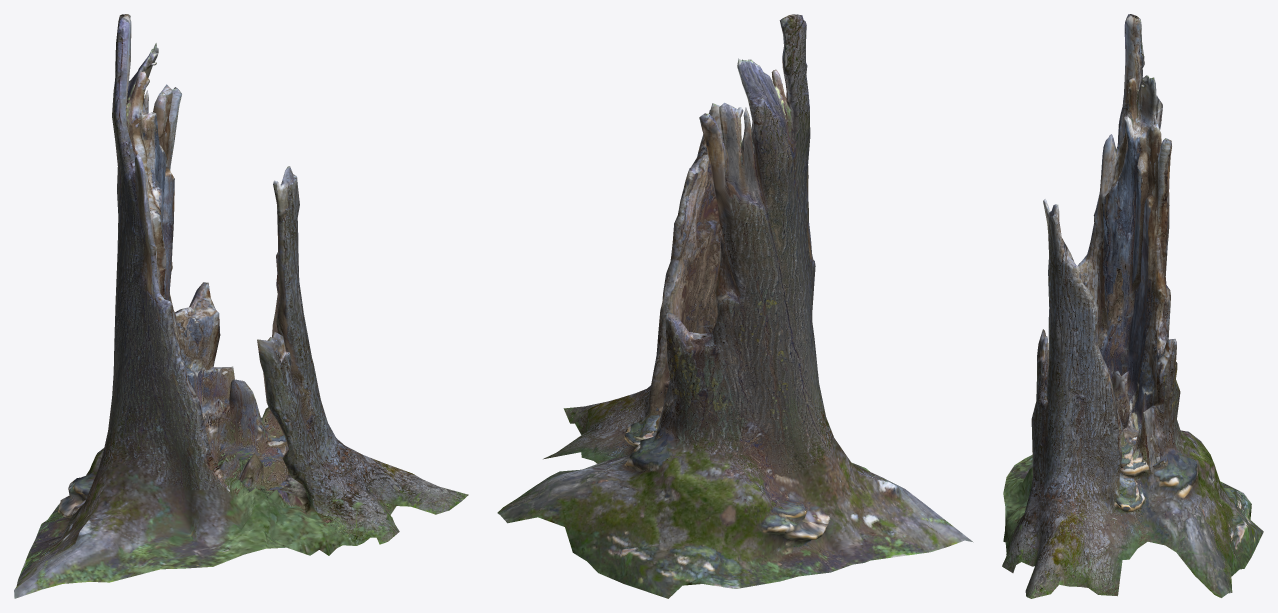
The model's file is tronco_1.fbx.
3 renders of one model, left to right at view 1: azimuth 30°, elevation 25°; view 2: azimuth 150°, elevation 25°; view 3: azimuth 270°, elevation 25°, orthographic. The views are drawn at different scales.
Parts seen in each view (by area): view 1: tronco_1; view 2: tronco_1; view 3: tronco_1.
Boxes of the visible parts, x1,y1,x2,y2 form: tronco_1: (14, 14, 468, 598); tronco_1: (497, 14, 973, 598); tronco_1: (1002, 14, 1263, 598).
Bounding box in the file's own units: 2.14 × 2.59 × 1.24.
